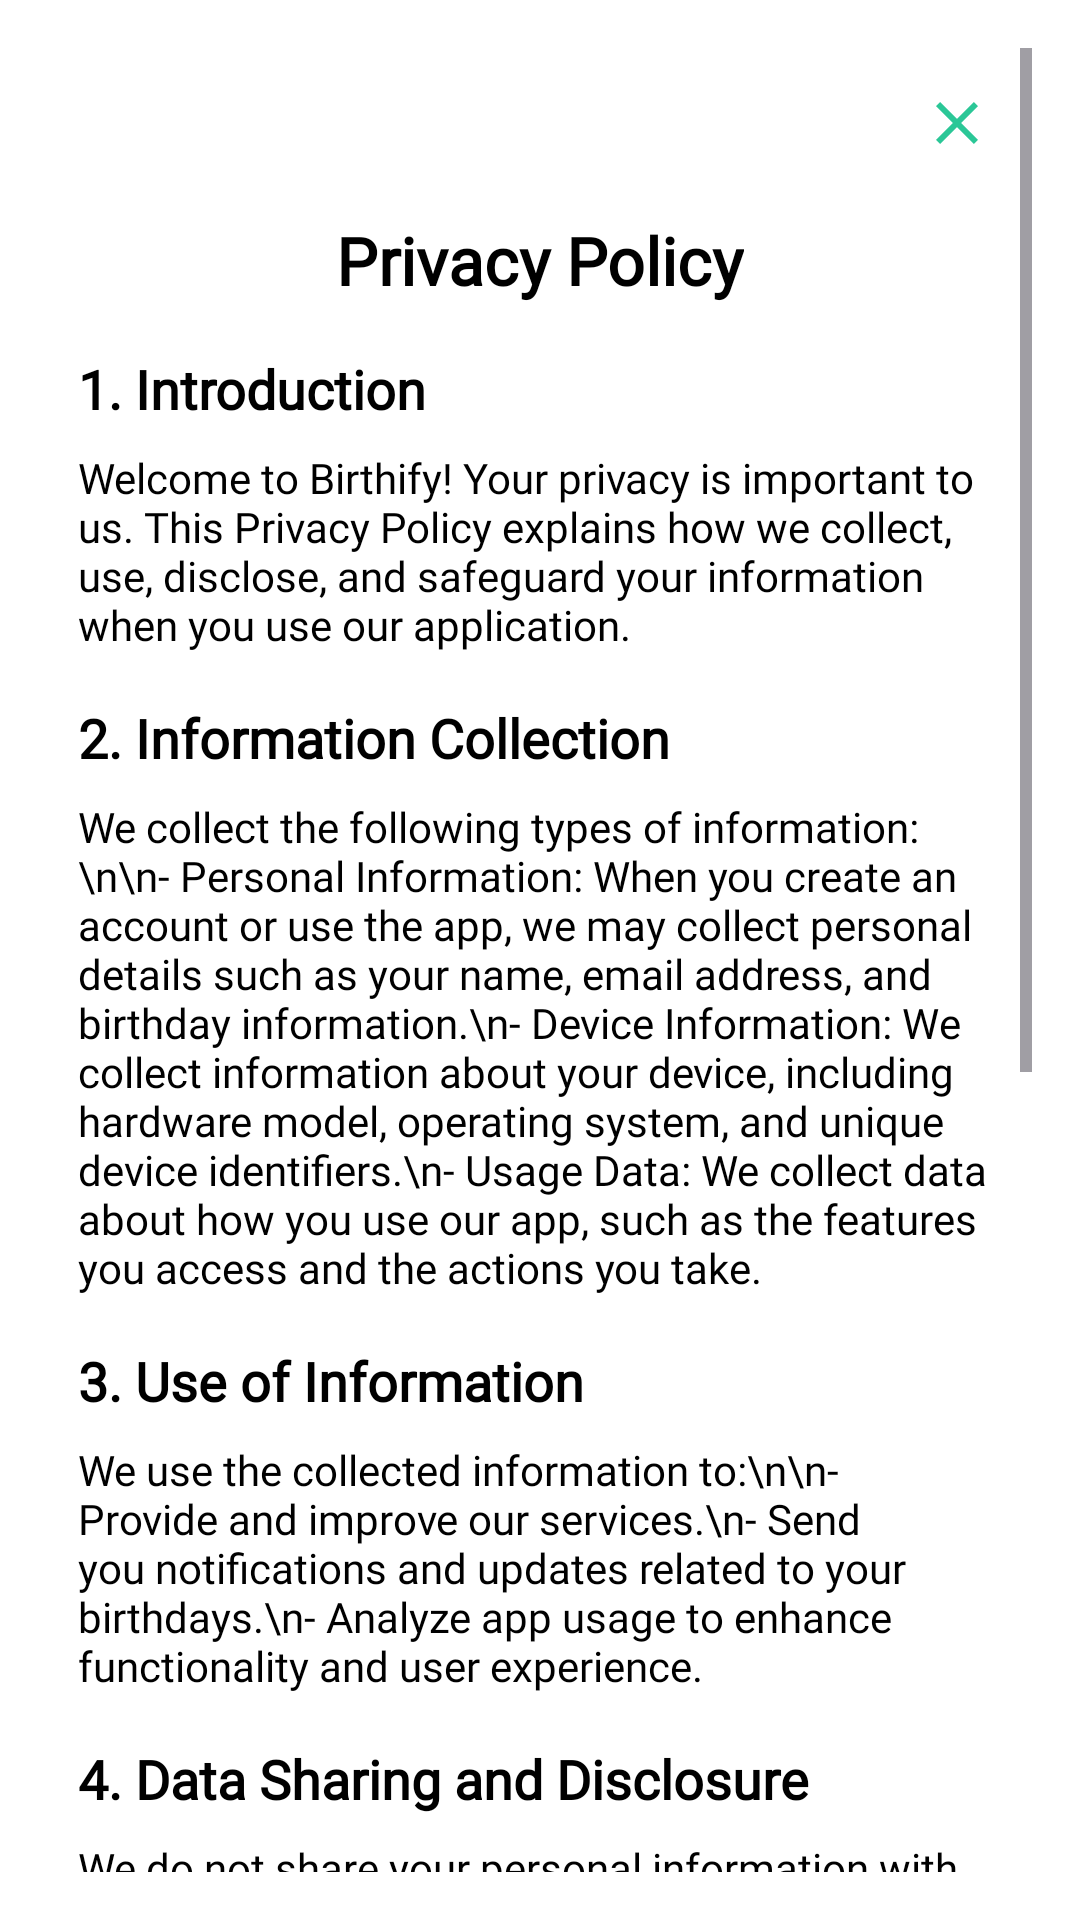

Screen size 1080x1920. Icon name, then its box in pixels as BBox(x1, y1, x2, y2):
close: BBox(936, 102, 978, 144)
